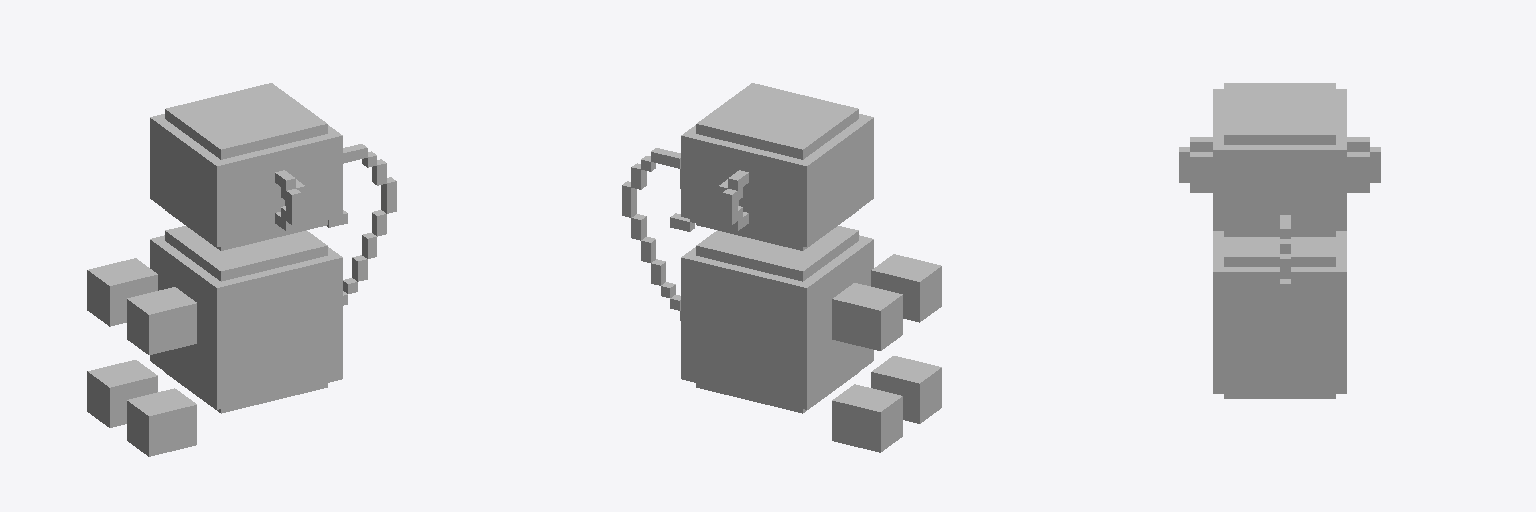
File: Monkey.obj
3 renders of one model, left to right at view 1: azimuth 30°, elevation 25°; view 2: azimuth 150°, elevation 25°; view 3: azimuth 270°, elevation 25°, orthographic.
Visible parts, largest first — view 1: untitled; view 2: untitled; view 3: untitled.
Part boxes in pixels (x1,y1,x2,y2): untitled: (87,83,396,456); untitled: (622,83,941,452); untitled: (1179,83,1380,398).
Bounding box in the file's own units: 29 × 28 × 18.